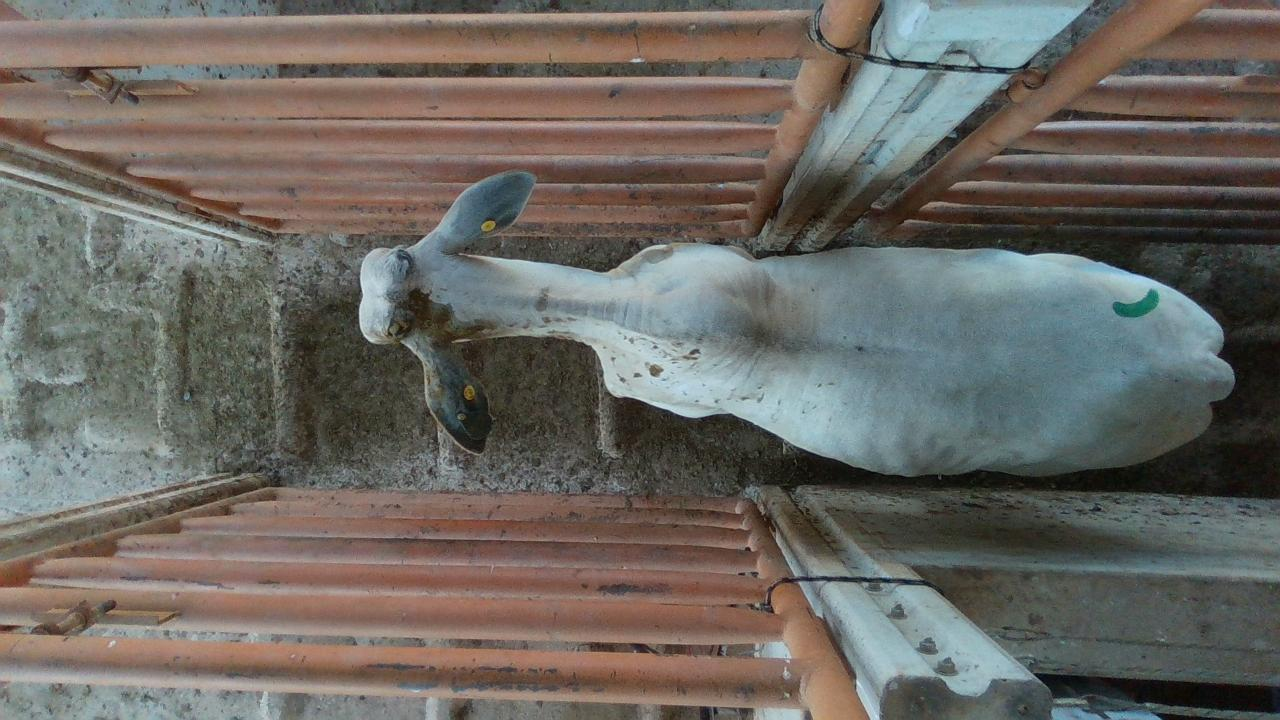cattle: (356, 167, 1236, 479)
